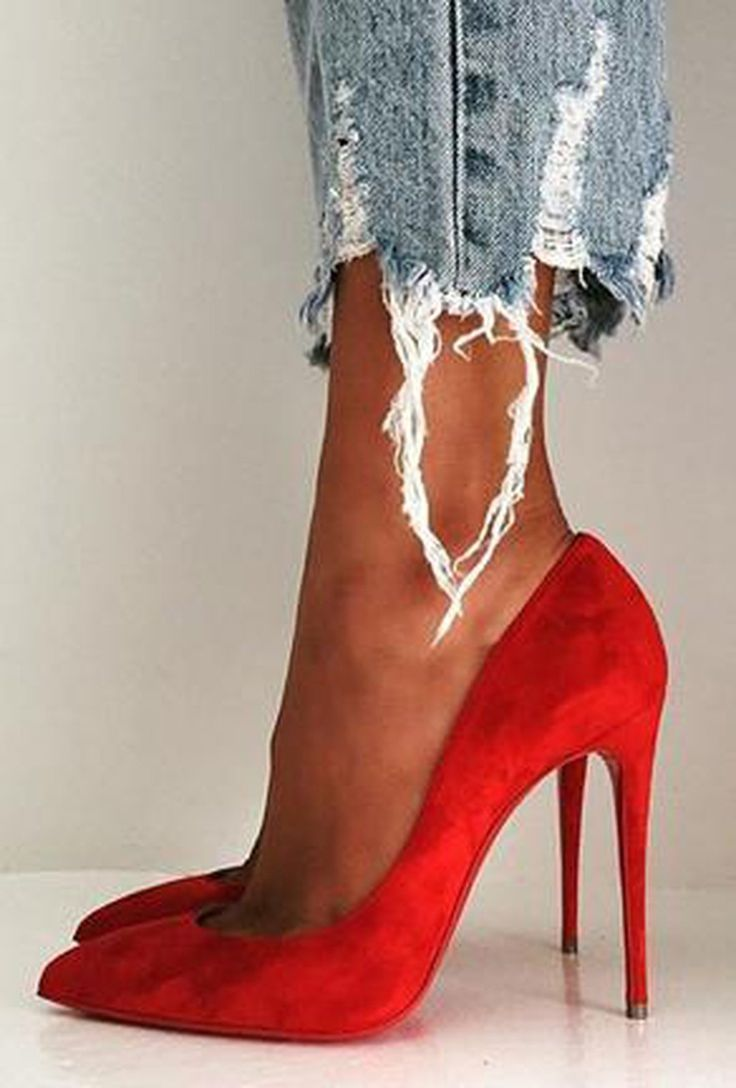gamuza: (41, 532, 667, 1042)
